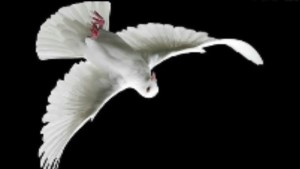pigeon: (33, 0, 267, 169)
